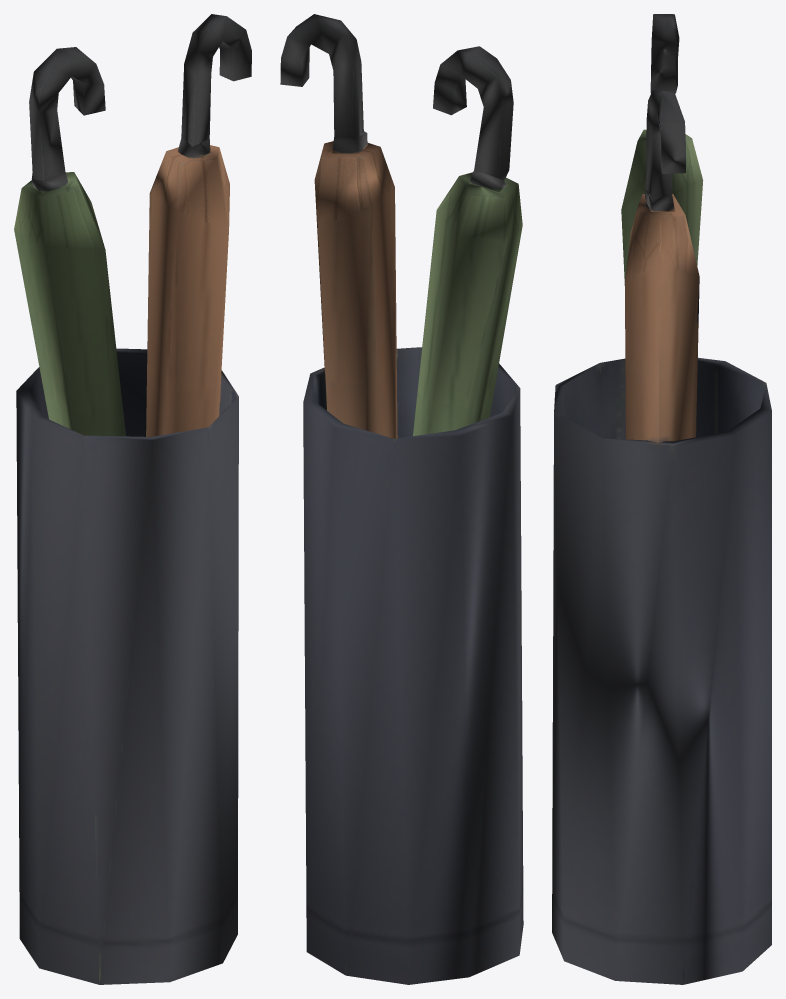
Rendered from umbrella_stand.fbx.
3 views of the same model, side by side, from view 1: azimuth 30°, elevation 25°; view 2: azimuth 150°, elevation 25°; view 3: azimuth 270°, elevation 25° (orthographic).
Visible parts, largest first — view 1: Mesh_0; view 2: Mesh_0; view 3: Mesh_0.
Boxes of the visible parts, box(x1,y1,x2,y2) form: Mesh_0: box(14, 14, 251, 984); Mesh_0: box(280, 14, 523, 984); Mesh_0: box(552, 14, 771, 984).
Size of the model in its own units: 25.2 by 95.36 by 21.24.
Materials: 1 (1 with a texture image).
